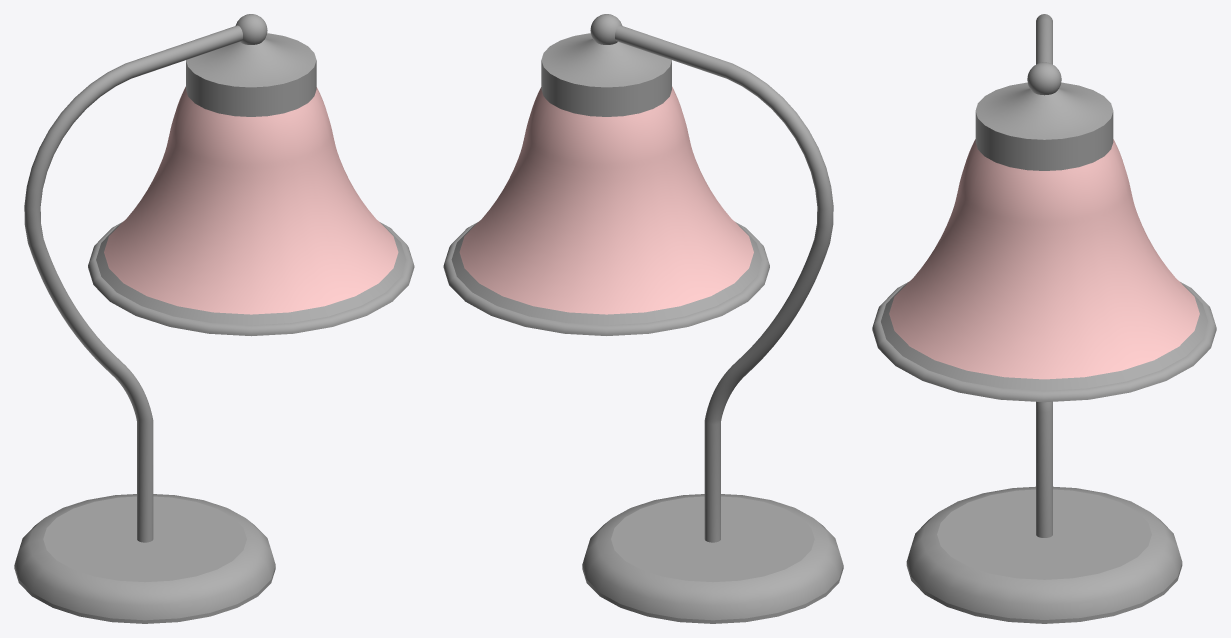
3 views of the same model, side by side, from view 1: azimuth 30°, elevation 25°; view 2: azimuth 150°, elevation 25°; view 3: azimuth 270°, elevation 25° (orthographic). The views are drawn at different scales.
Visible parts, largest first — view 1: Mesh4_Component_3_1_DeskLamp1_Model; view 2: Mesh4_Component_3_1_DeskLamp1_Model; view 3: Mesh4_Component_3_1_DeskLamp1_Model.
Boxes of the visible parts, box(x1,y1,x2,y2) form: Mesh4_Component_3_1_DeskLamp1_Model: box(14, 14, 414, 623); Mesh4_Component_3_1_DeskLamp1_Model: box(443, 14, 843, 623); Mesh4_Component_3_1_DeskLamp1_Model: box(872, 14, 1216, 623).
Size of the model in its own units: 0.7173 by 0.9845 by 0.5527.
